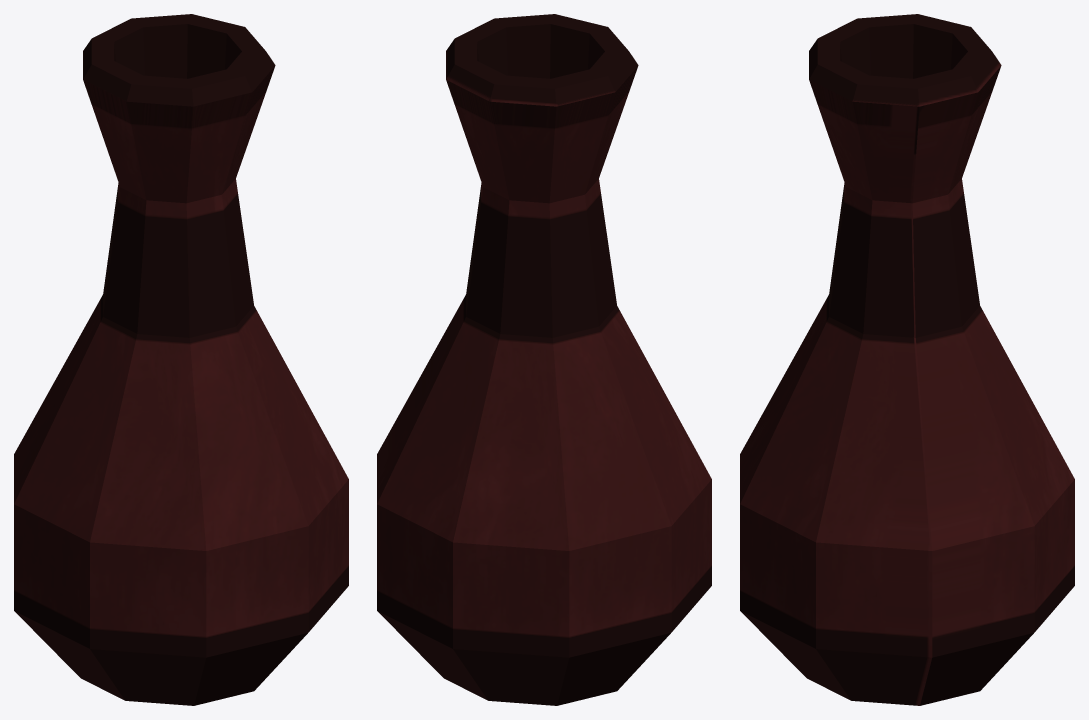
File: Vase_v05_01.fbx
The picture shows the model from 3 angles, left to right: view 1: azimuth 30°, elevation 25°; view 2: azimuth 150°, elevation 25°; view 3: azimuth 270°, elevation 25°; orthographic projection.
Parts seen in each view (by area): view 1: Vase_v01; view 2: Vase_v01; view 3: Vase_v01.
Boxes of the visible parts, bbox=[...] form: Vase_v01: bbox=[14, 14, 348, 705]; Vase_v01: bbox=[377, 14, 711, 705]; Vase_v01: bbox=[740, 14, 1074, 705].
Size of the model in its own units: 9.77 by 19.4 by 9.62.
